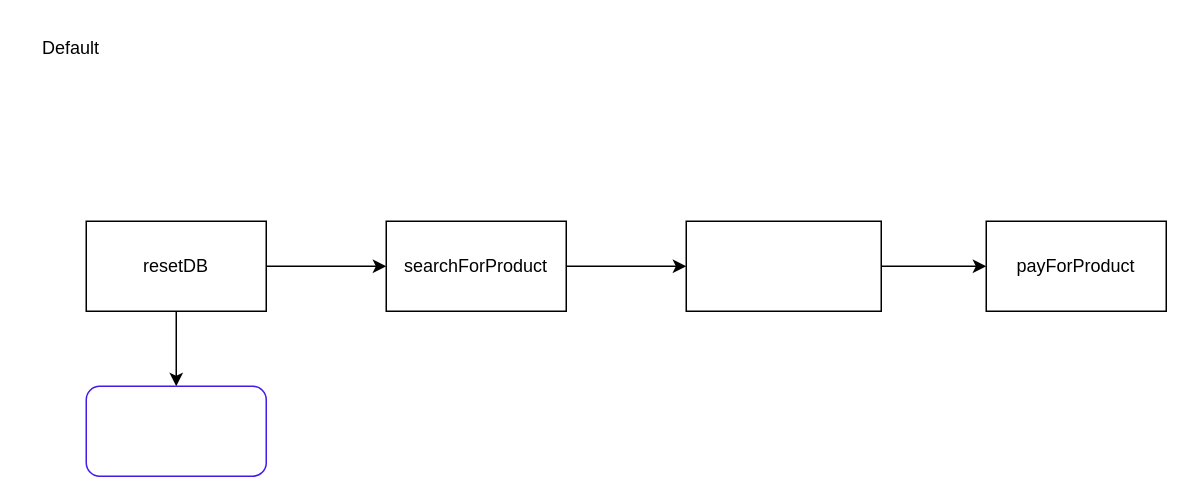
The diagram is 1193 pixels wide and 503 high, and some of its shapes have lost their labels. Here are the shapes that lost their labels. From the top down, the box of each, then its label:
(685, 220, 881, 311): addToShoppingBasket
(85, 385, 266, 476): loadPriceDB
